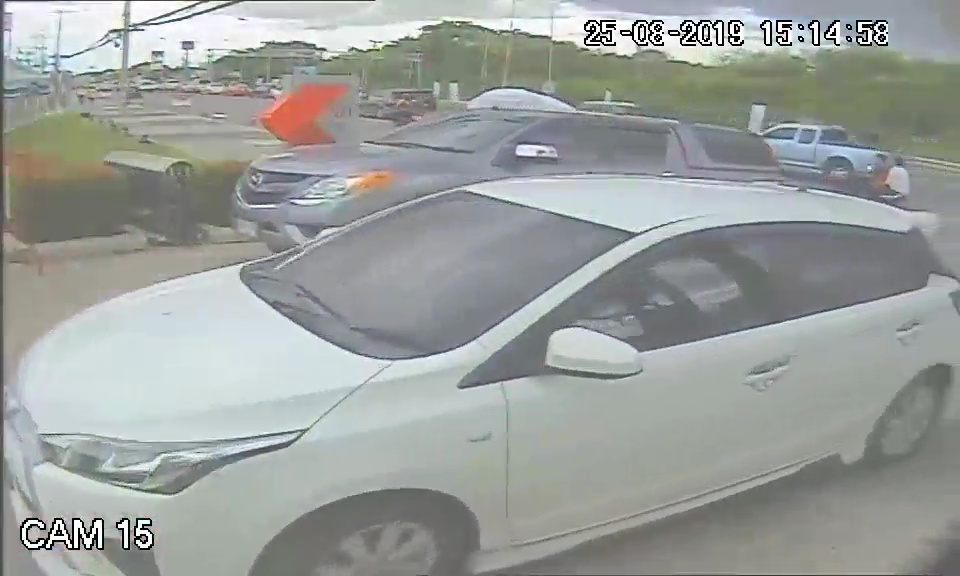sedan: (15, 194, 723, 573)
